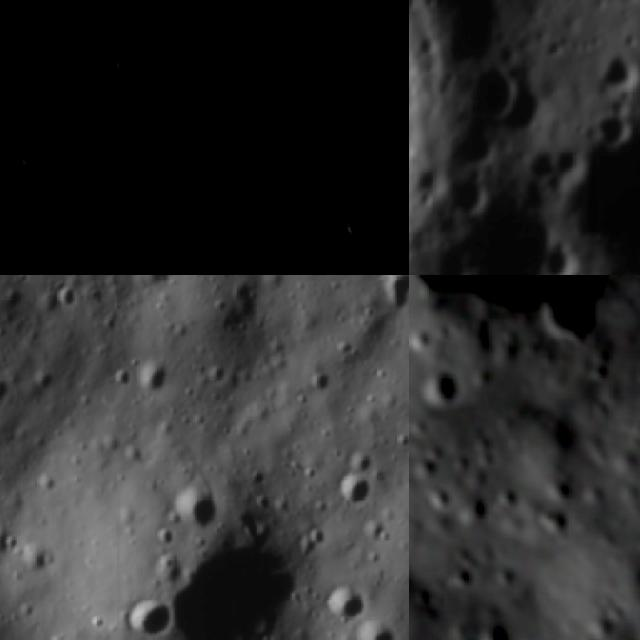crater: (409, 0, 463, 275), (163, 540, 303, 640), (334, 163, 404, 254), (460, 56, 536, 130), (0, 223, 107, 275), (205, 226, 272, 275), (133, 51, 187, 108), (171, 481, 228, 532), (595, 35, 640, 98), (182, 0, 248, 36), (426, 232, 481, 275), (590, 101, 638, 147), (330, 580, 374, 627), (124, 600, 175, 640), (17, 535, 62, 577), (69, 120, 109, 163), (418, 363, 456, 408), (172, 147, 210, 188), (335, 473, 376, 510), (13, 136, 50, 176), (109, 37, 142, 77), (300, 520, 333, 560), (134, 362, 168, 399), (48, 278, 80, 317), (128, 257, 193, 275), (379, 275, 409, 314), (424, 481, 462, 510), (359, 620, 405, 640), (0, 526, 19, 562), (409, 328, 438, 348), (0, 372, 14, 409)
